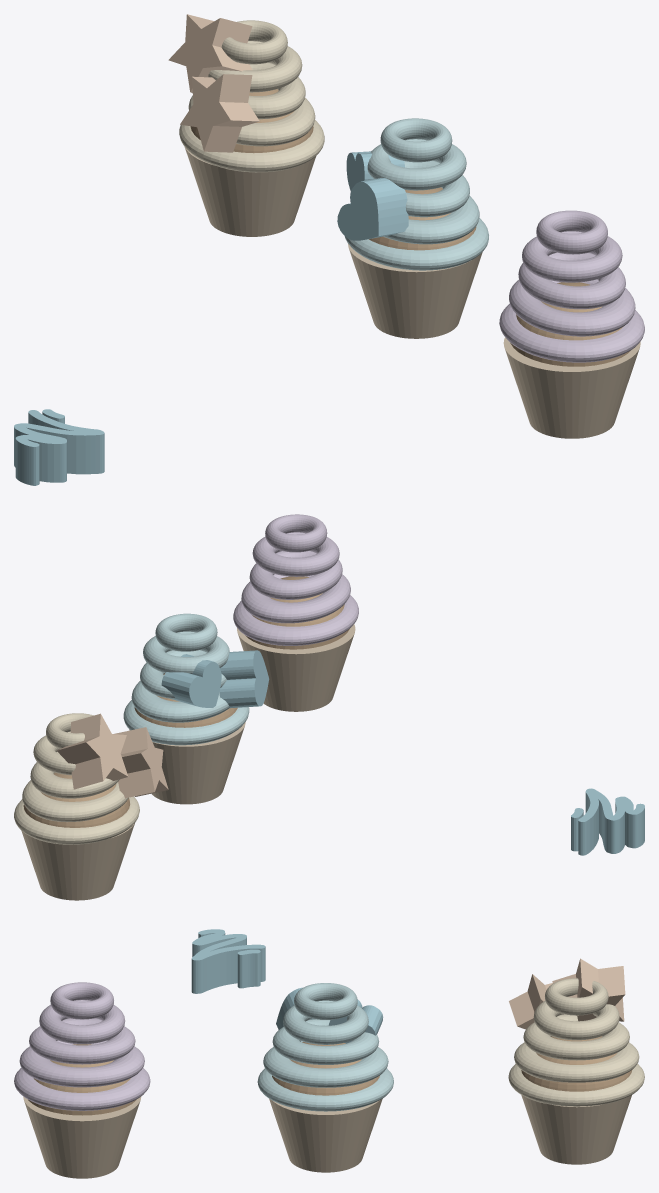
Rendered from Georgia Morton - Cupcake.glb.
3 views of the same model, one above another, from view 1: azimuth 30°, elevation 25°; view 2: azimuth 150°, elevation 25°; view 3: azimuth 270°, elevation 25° (orthographic). The views are drawn at different scales.
Parts seen in each view (by area): view 1: Mesh_Mesh_head_geo.001_lambert2SG.001; view 2: Mesh_Mesh_head_geo.001_lambert2SG.001; view 3: Mesh_Mesh_head_geo.001_lambert2SG.001.
Part boxes in pixels (left/top/right/bottom): Mesh_Mesh_head_geo.001_lambert2SG.001: left=14, top=14, right=644, bottom=485; Mesh_Mesh_head_geo.001_lambert2SG.001: left=14, top=514, right=644, bottom=900; Mesh_Mesh_head_geo.001_lambert2SG.001: left=14, top=929, right=644, bottom=1178.
Bounding box in the file's own units: 0.145 × 0.0533 × 0.171.
